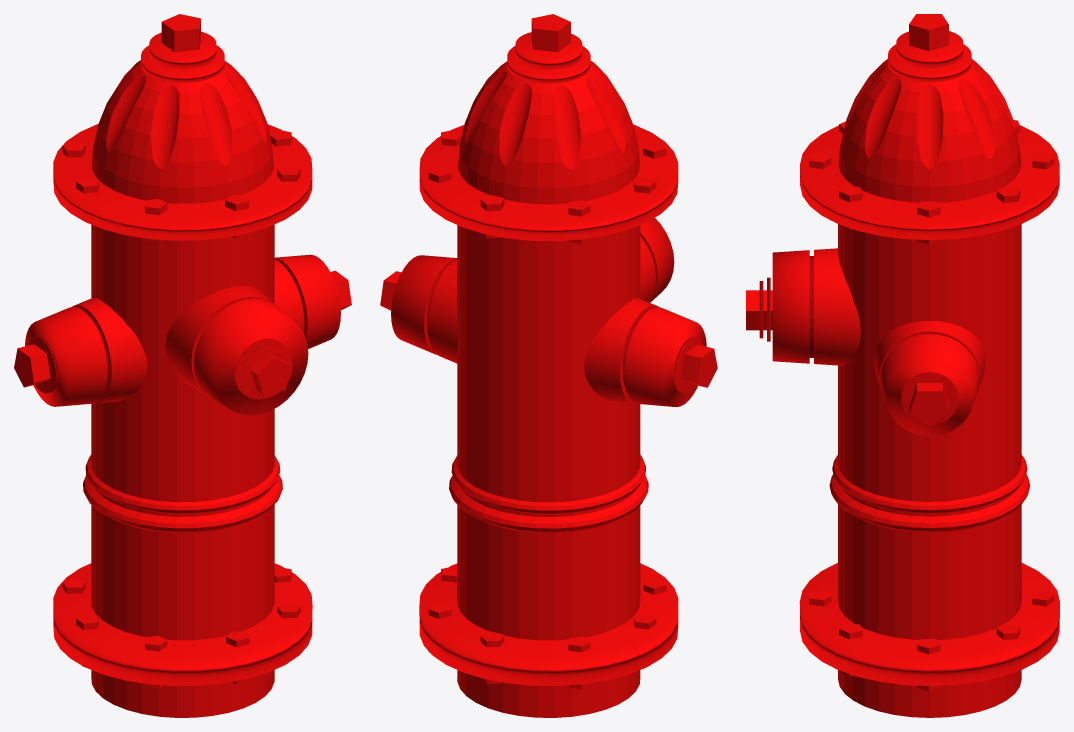
Rendered from fireHydrant.fbx.
The picture shows the model from 3 angles, left to right: view 1: azimuth 30°, elevation 25°; view 2: azimuth 150°, elevation 25°; view 3: azimuth 270°, elevation 25°; orthographic projection.
Visible parts, largest first — view 1: Cylinder, Sphere, Cylinder.003, Cylinder.004, Cylinder.001, Cylinder.011, Sphere.001, Sphere.002, Cube.001, Cylinder.002, Cylinder.005, Cube (+4 smaller); view 2: Cylinder, Sphere, Cylinder.004, Cylinder.003, Cylinder.001, Sphere.001, Sphere.002, Cylinder.011, Cube.001, Cylinder.002, Cylinder.005, Cube (+1 smaller); view 3: Cylinder, Sphere, Cylinder.003, Cylinder.001, Cylinder.011, Cylinder.004, Sphere.001, Sphere.002, Cylinder.002, Cylinder.005, Cube.001, Cube (+3 smaller).
Boxes of the visible parts, x1,y1,x2,y2 form: Cylinder: (91,224,274,717); Sphere: (92,60,273,203); Cylinder.003: (53,563,312,685); Cylinder.004: (25,254,340,406); Cylinder.001: (53,124,312,240); Cylinder.011: (165,286,308,415); Sphere.001: (83,475,282,532); Sphere.002: (85,455,280,513); Cube.001: (14,270,351,387); Cylinder.002: (149,31,216,68); Cylinder.005: (141,45,224,82); Cube: (161,14,200,51); Cylinder: (457,225,640,717); Sphere: (458,61,639,204); Cylinder.004: (391,255,706,407); Cylinder.003: (419,563,678,685); Cylinder.001: (419,124,678,241); Sphere.001: (449,475,648,532); Sphere.002: (451,455,645,513); Cylinder.011: (640,218,674,302); Cube.001: (380,271,717,387); Cylinder.002: (515,32,582,69); Cylinder.005: (507,46,590,83); Cube: (531,14,570,52); Cylinder: (838,224,1021,717); Sphere: (838,59,1021,202); Cylinder.003: (799,563,1059,685); Cylinder.001: (800,125,1059,239); Cylinder.011: (772,248,860,365); Cylinder.004: (874,321,985,436); Sphere.001: (829,474,1030,532); Sphere.002: (832,455,1027,513); Cylinder.002: (896,31,963,67); Cylinder.005: (888,44,971,82); Cube.001: (909,383,949,425); Cube: (909,14,948,50).
Size of the model in its own units: 332 by 655 by 283.
